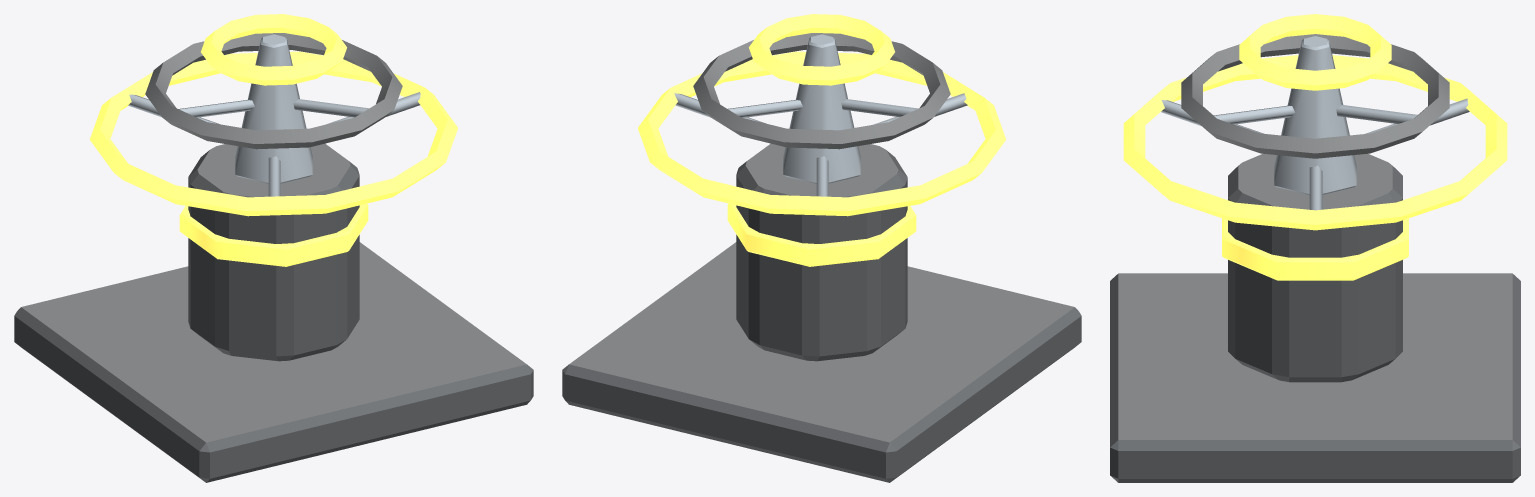
File: R4X_SupportTurretDeployer_LOD1.glb
The picture shows the model from 3 angles, left to right: view 1: azimuth 30°, elevation 25°; view 2: azimuth 150°, elevation 25°; view 3: azimuth 270°, elevation 25°; orthographic projection. The views are drawn at different scales.
Parts seen in each view (by area): view 1: R4X_SupportTurretDeployer_LOD1; view 2: R4X_SupportTurretDeployer_LOD1; view 3: R4X_SupportTurretDeployer_LOD1.
Boxes of the visible parts, x1,y1,x2,y2 form: R4X_SupportTurretDeployer_LOD1: (14, 14, 533, 482); R4X_SupportTurretDeployer_LOD1: (562, 14, 1081, 482); R4X_SupportTurretDeployer_LOD1: (1110, 14, 1520, 482).
Bounding box in the file's own units: 0.52 × 0.5 × 0.52.
